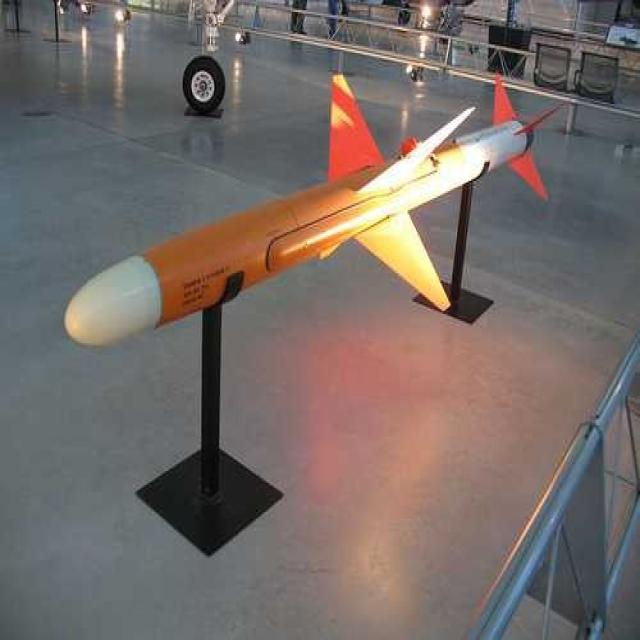missile: (58, 69, 557, 313)
